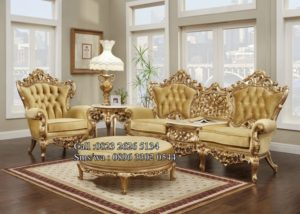Carving Chair: (135, 75, 285, 176), (21, 72, 90, 143)
Carving Table: (77, 137, 175, 184)
